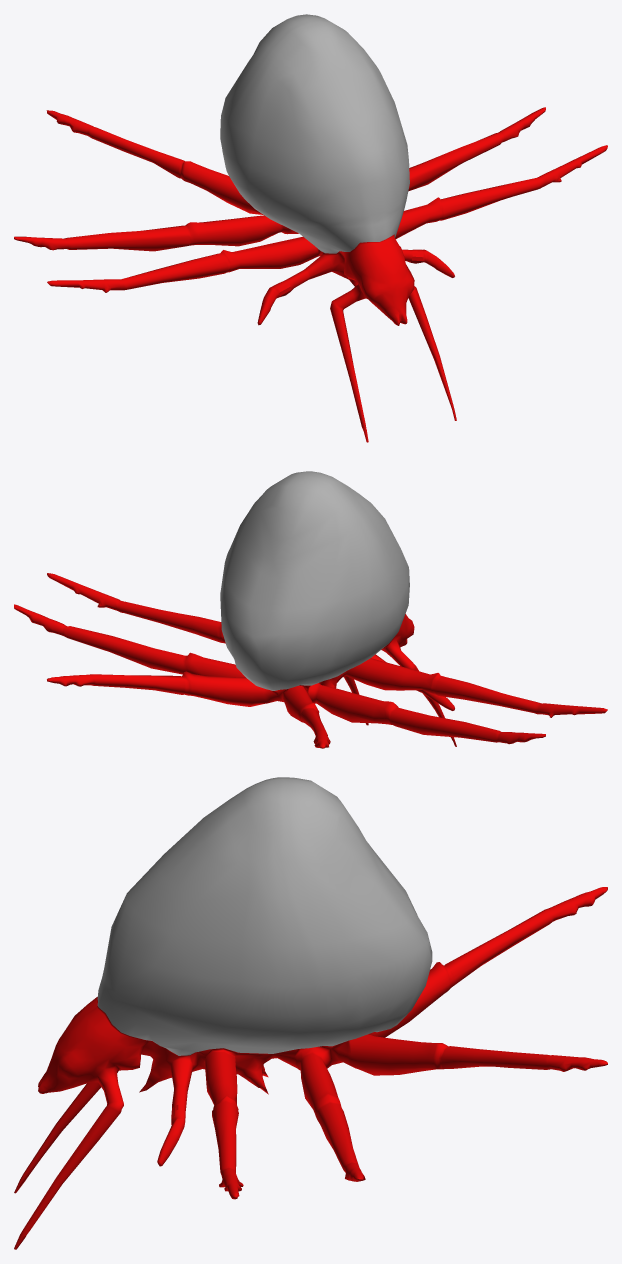
The model's file is HORM2.fbx.
3 views of the same model, one above another, from view 1: azimuth 30°, elevation 25°; view 2: azimuth 150°, elevation 25°; view 3: azimuth 270°, elevation 25° (orthographic). The views are drawn at different scales.
Parts seen in each view (by area): view 1: polySurface2; view 2: polySurface2; view 3: polySurface2.
Boxes of the visible parts, box(x1,y1,x2,y2) form: polySurface2: box(14, 14, 607, 442); polySurface2: box(14, 471, 607, 748); polySurface2: box(14, 777, 607, 1249).
Bounding box in the file's own units: 904 × 516 × 636.
